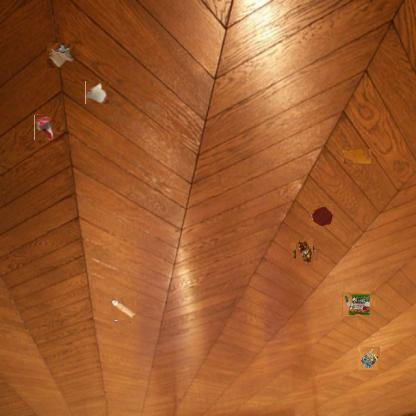dirty: (48, 42, 74, 68), (342, 292, 370, 316), (112, 298, 136, 322), (85, 81, 109, 104), (292, 241, 315, 263), (358, 347, 380, 370), (34, 114, 53, 140)
liquid: (309, 204, 333, 226), (343, 148, 371, 164)
